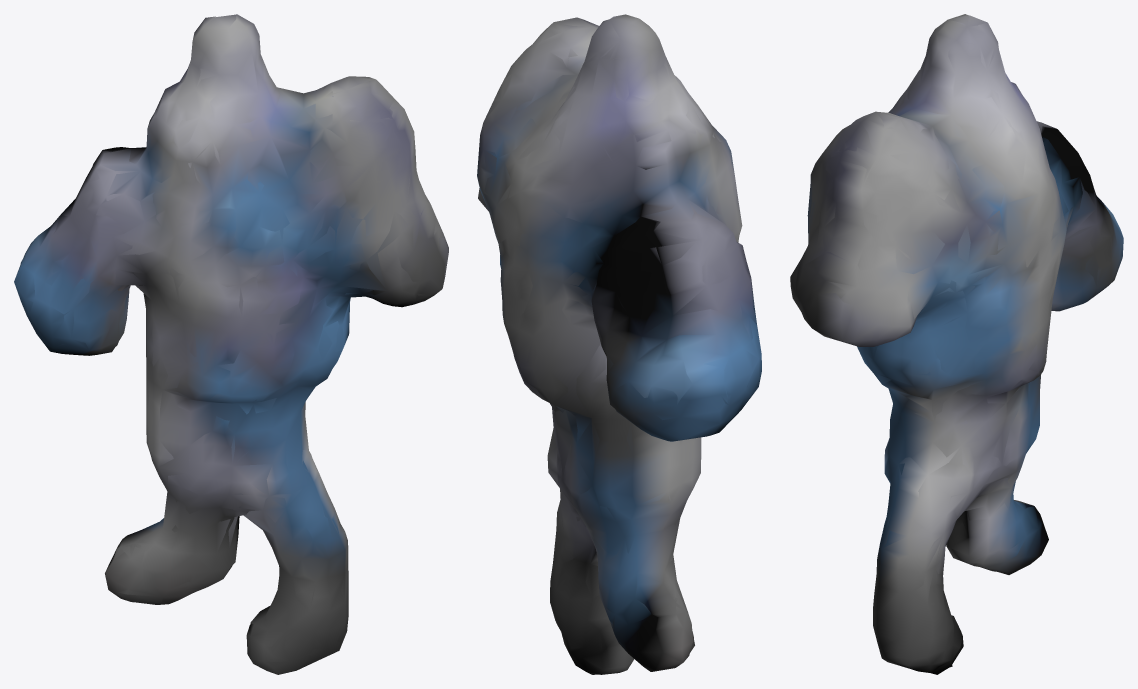
Rendered from rocketeer.glb.
3 views of the same model, side by side, from view 1: azimuth 30°, elevation 25°; view 2: azimuth 150°, elevation 25°; view 3: azimuth 270°, elevation 25° (orthographic). The views are drawn at different scales.
Visible parts, largest first — view 1: rocketeer; view 2: rocketeer; view 3: rocketeer.
Boxes of the visible parts, <box> form: rocketeer: <box>14,14,448,674</box>; rocketeer: <box>477,14,761,674</box>; rocketeer: <box>790,14,1123,674</box>.
Bounding box in the file's own units: 1.19 × 2.22 × 1.05.
